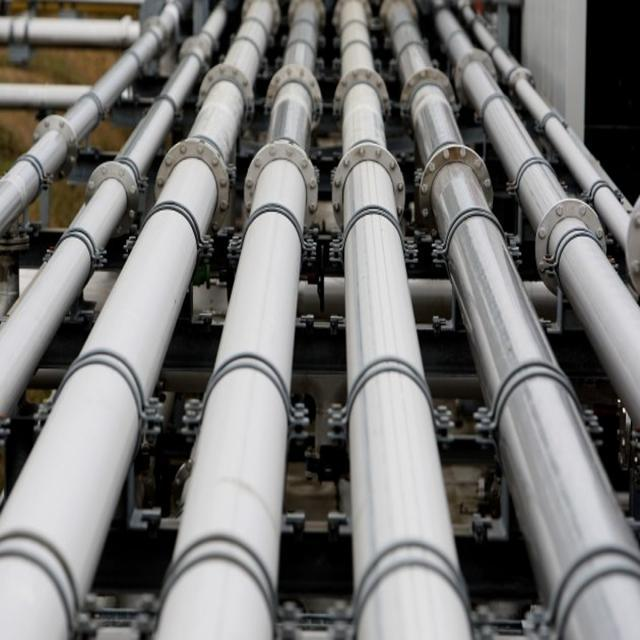gas: (0, 0, 279, 639), (381, 0, 640, 640), (155, 0, 322, 640), (0, 10, 224, 417), (332, 0, 471, 640), (435, 0, 640, 423), (458, 0, 640, 293), (0, 0, 188, 234)
